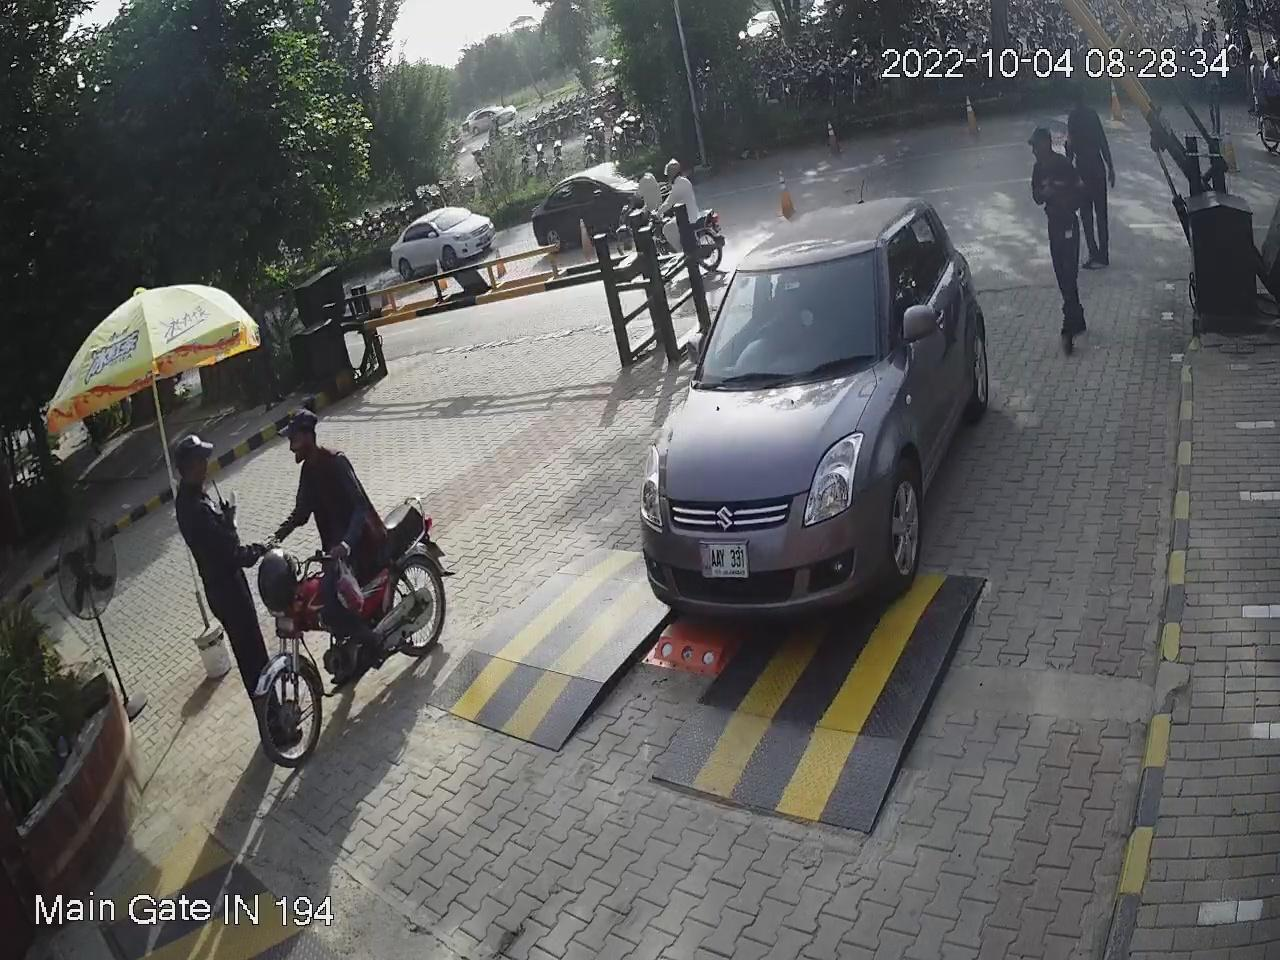windshield: (690, 240, 880, 397)
